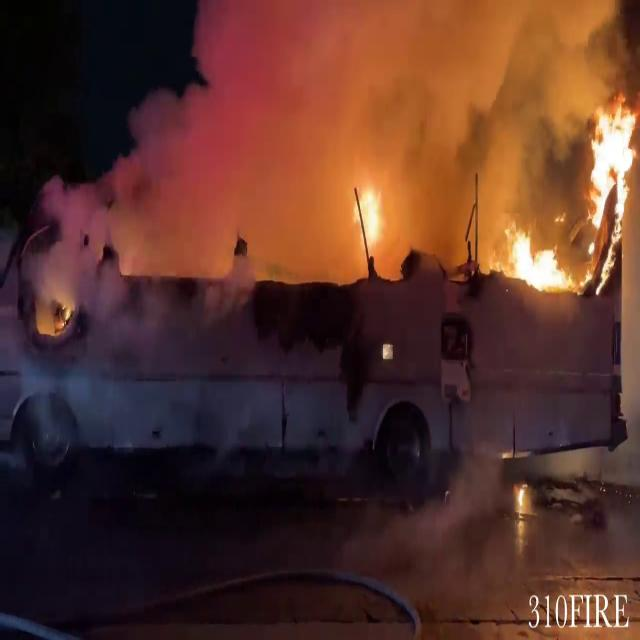Fire: (578, 97, 640, 259), (496, 218, 574, 298), (352, 171, 390, 273)
Smoke: (90, 0, 622, 273)
